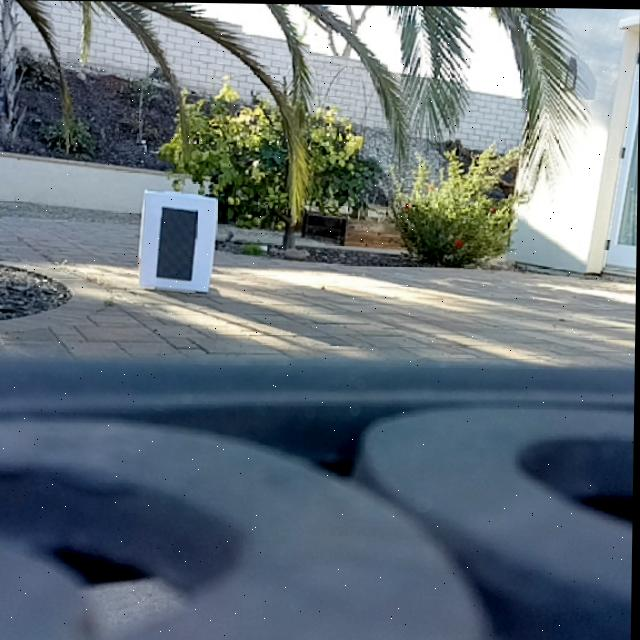led: (156, 203, 201, 283)
